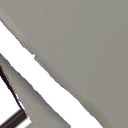crackTip: (1, 52, 71, 128)
